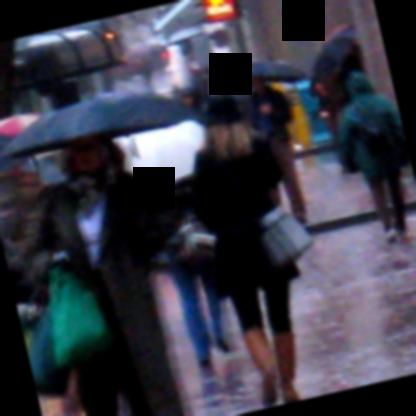backpack: (266, 206, 319, 268), (351, 123, 410, 167)
handbag: (48, 265, 106, 370), (258, 206, 316, 269)
